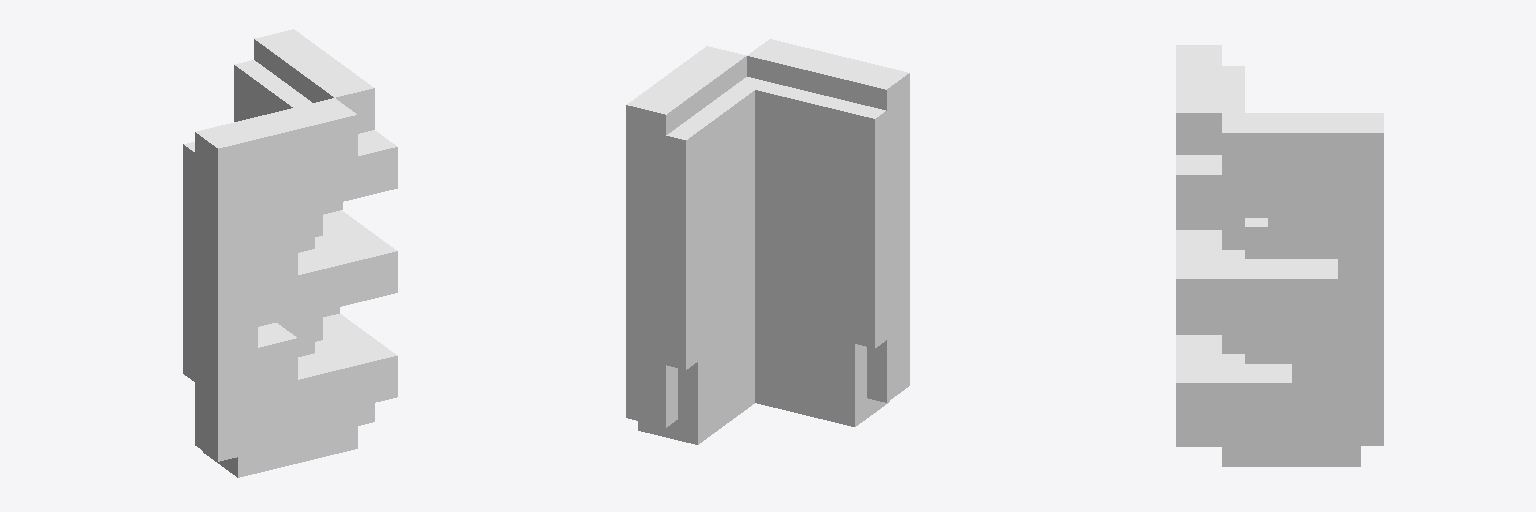
The model's file is Skill-log.vox-8.obj.
The picture shows the model from 3 angles: view 1: azimuth 30°, elevation 25°; view 2: azimuth 150°, elevation 25°; view 3: azimuth 270°, elevation 25°; orthographic projection.
Visible parts, largest first — view 1: object 1; view 2: object 1; view 3: object 1.
Part boxes in pixels (x1,y1,x2,y2): object 1: (183,29,397,477); object 1: (626,39,909,444); object 1: (1176,45,1383,466).
Bounding box in the file's own units: 0.9 × 1.6 × 0.9.